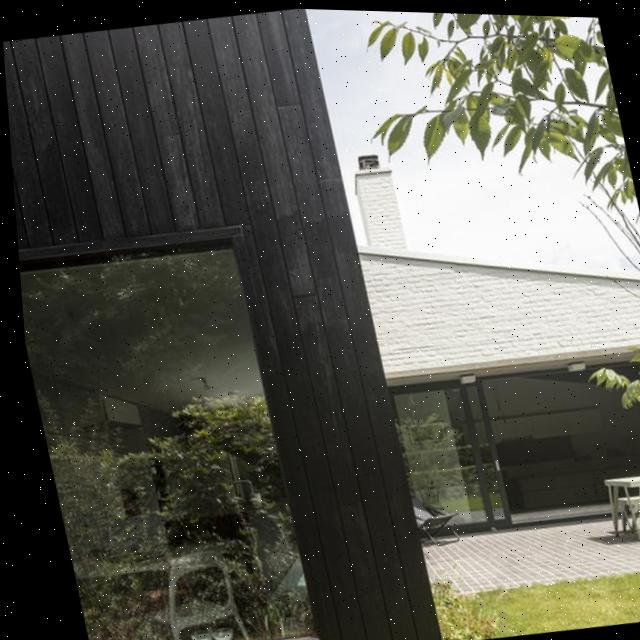building: (0, 0, 439, 640), (328, 110, 640, 547)
